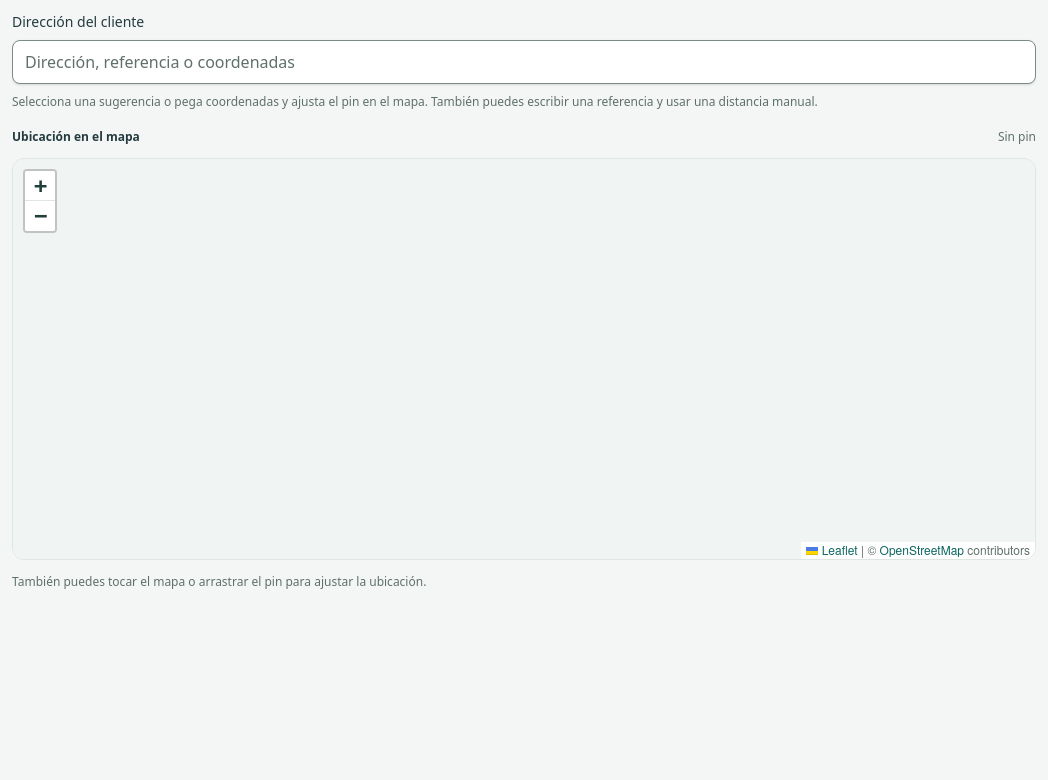
Test case: LocationPicker › selects a suggested address with the keyboard without submitting the form
In the dropdown labelled "Dirección del cliente": [524, 62] box x1=12 y1=40 x2=1036 y2=84, type "Ren"
Wait 500 ms
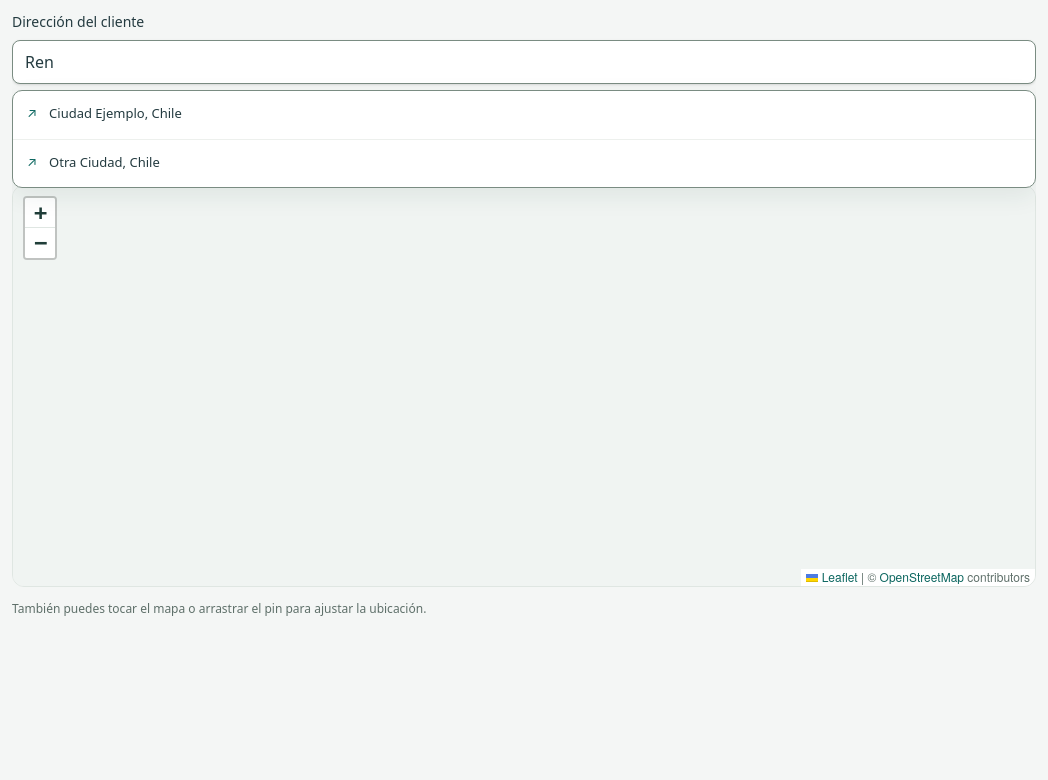
Now the number of options is 2, box x1=27 y1=104 x2=182 y2=122; x1=13 y1=139 x2=1035 y2=187
Press ArrowDown in the dropdown labelled "Dirección del cliente", box x1=12 y1=40 x2=1036 y2=84
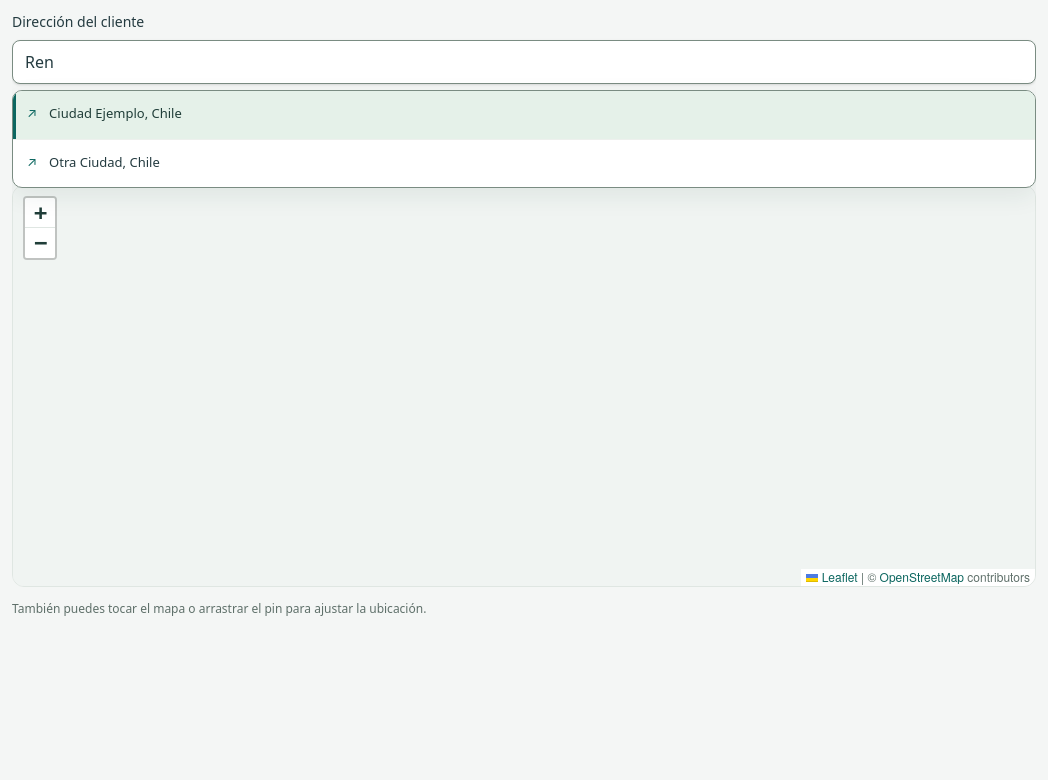
Press ArrowDown in the dropdown labelled "Dirección del cliente", box x1=12 y1=40 x2=1036 y2=84
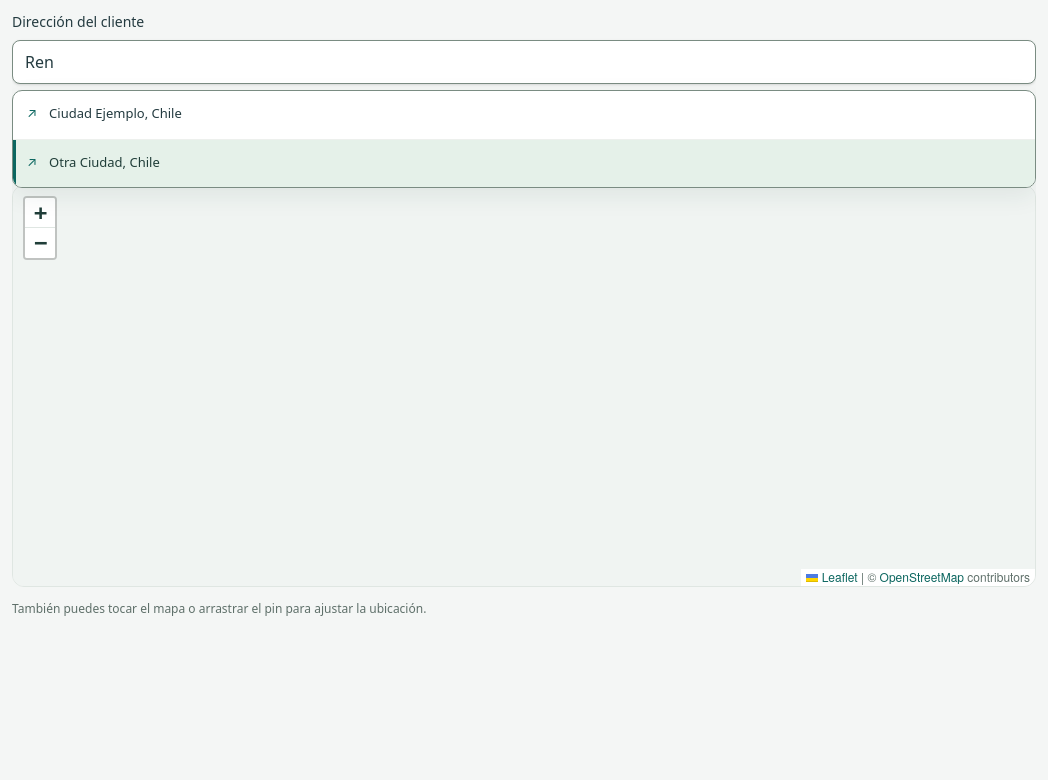
Now the option "↗ Otra Ciudad, Chile" is shown, box x1=13 y1=139 x2=1035 y2=187
Now the dropdown labelled "Dirección del cliente" is expanded
Press Enter in the dropdown labelled "Dirección del cliente", box x1=12 y1=40 x2=1036 y2=84
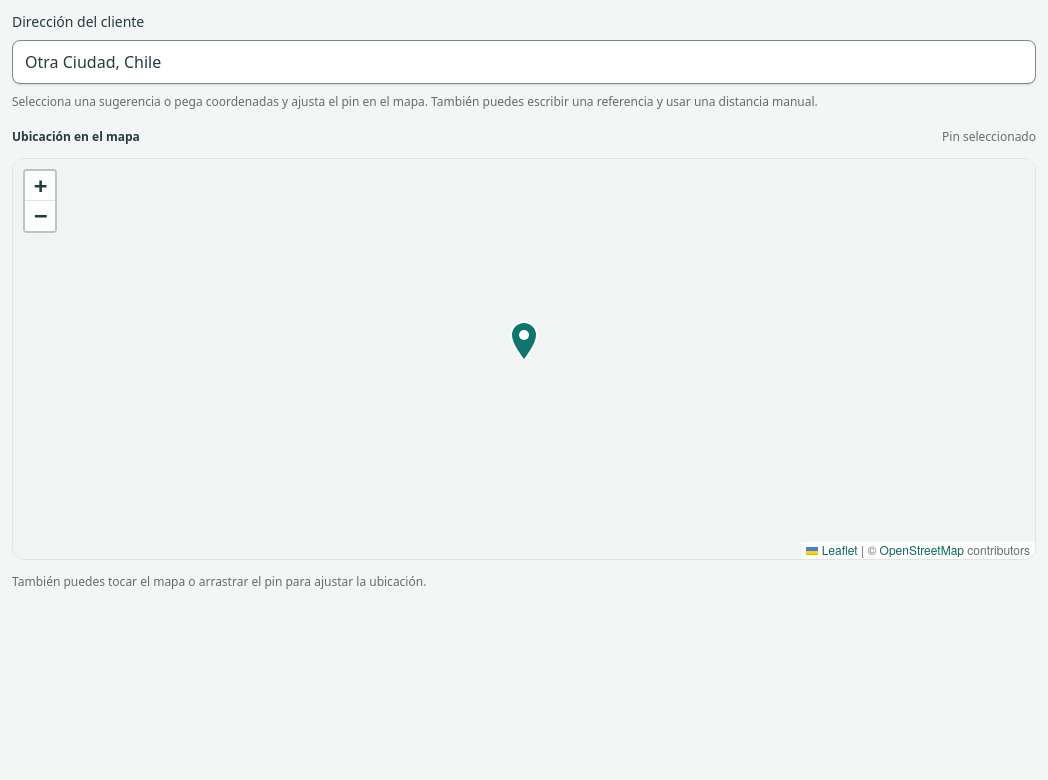
Now the dropdown labelled "Dirección del cliente" holds "Otra Ciudad, Chile", box x1=12 y1=40 x2=1036 y2=84
Now the dropdown labelled "Dirección del cliente" is collapsed, box x1=12 y1=40 x2=1036 y2=84
Now the list is gone
